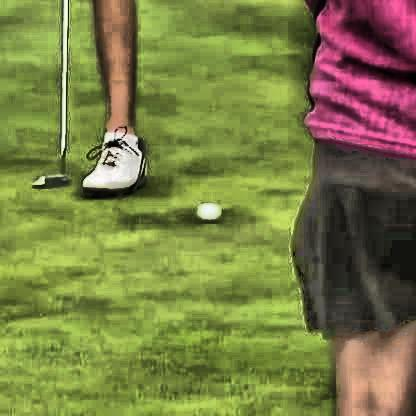golfball: (195, 201, 219, 220)
